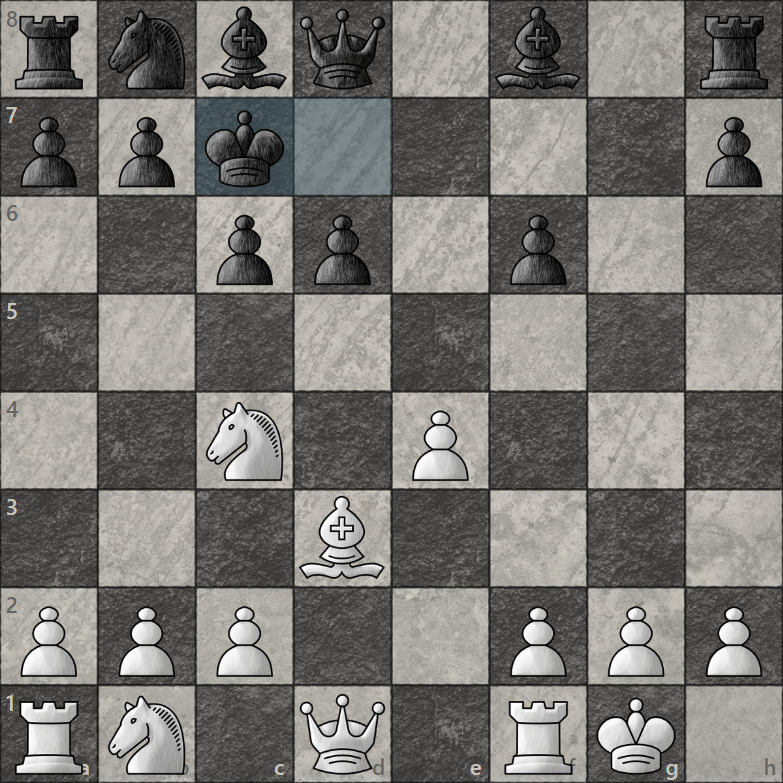B: (298, 492, 386, 582)
K: (593, 698, 676, 776)
N: (202, 400, 286, 484), (108, 693, 189, 777)
P: (410, 406, 472, 484), (20, 604, 79, 681), (116, 603, 175, 680), (215, 602, 274, 679), (510, 605, 569, 682), (606, 603, 665, 680), (704, 604, 763, 681)
Q: (298, 690, 386, 779)
R: (15, 696, 88, 778), (504, 696, 576, 778)
b: (202, 4, 288, 92), (496, 5, 580, 94)
k: (201, 107, 290, 192)
n: (106, 6, 190, 94)
p: (214, 208, 276, 289), (312, 208, 374, 289), (508, 206, 570, 287), (115, 110, 177, 191), (18, 110, 80, 191), (705, 114, 767, 190)
q: (296, 5, 386, 93)
r: (10, 9, 86, 94), (699, 12, 773, 95)
